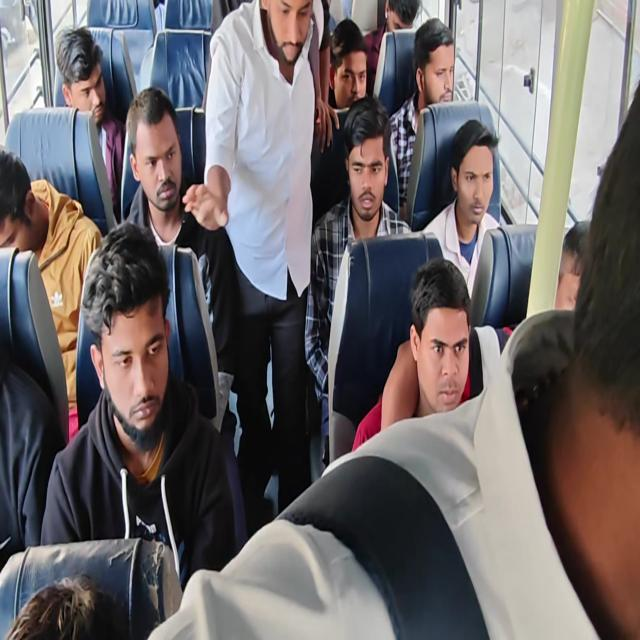person: (577, 64, 640, 444), (80, 233, 183, 428), (122, 73, 190, 219), (8, 563, 118, 635), (412, 265, 462, 416), (336, 96, 390, 221), (52, 21, 109, 129), (445, 120, 502, 217), (0, 140, 40, 259), (554, 214, 596, 312), (413, 20, 460, 107), (328, 9, 366, 102), (258, 3, 310, 57), (384, 0, 418, 43)
